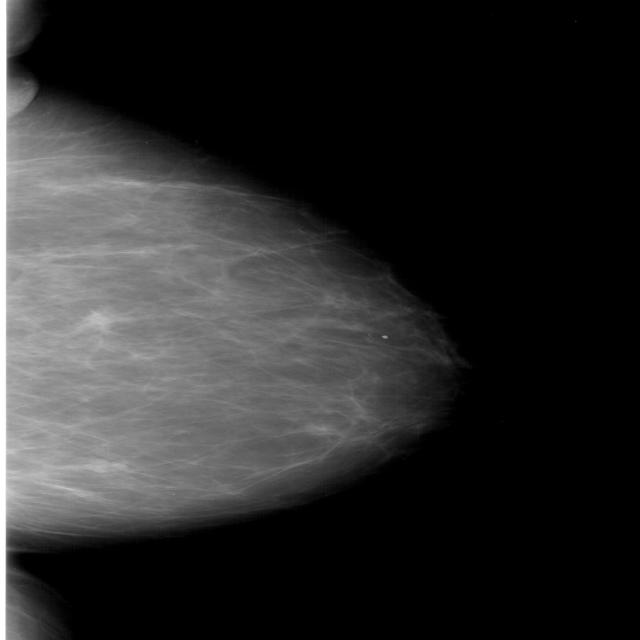normal: (0, 75, 451, 563)
